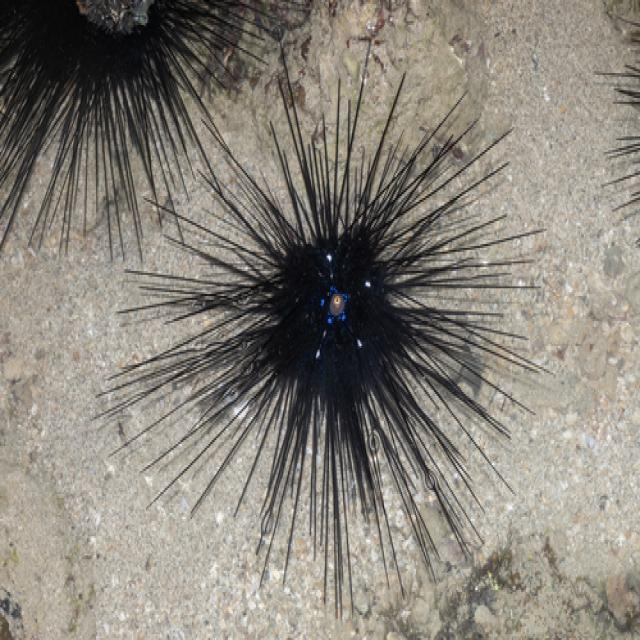Urchin: (100, 48, 553, 617)
